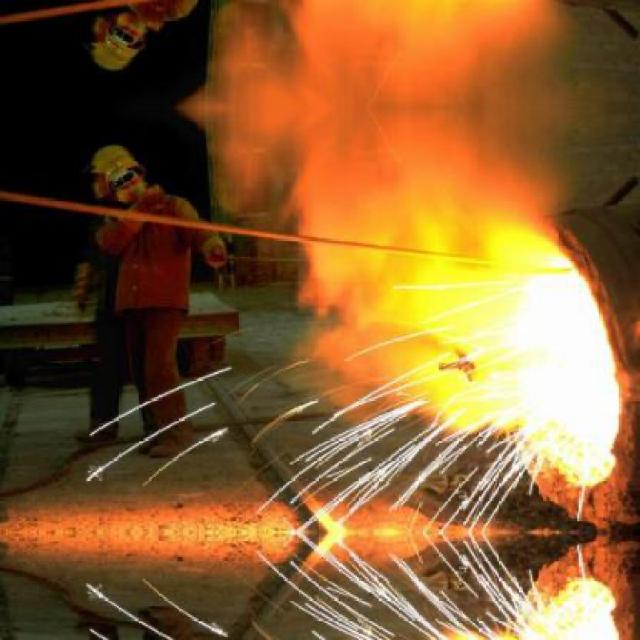helmet: (106, 156, 151, 207), (106, 8, 151, 58), (88, 141, 124, 194), (88, 18, 124, 71)
